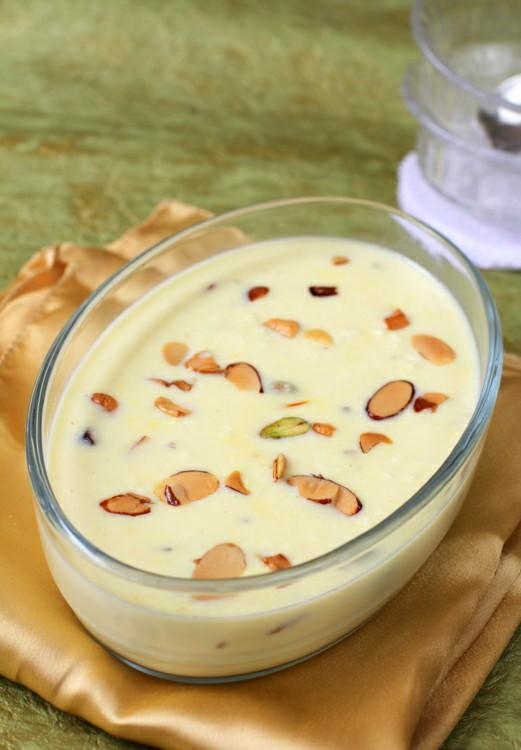Kheer: (47, 240, 470, 672)
